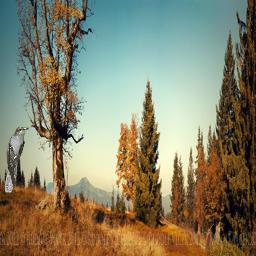Cuckoo: (4, 126, 29, 193)
